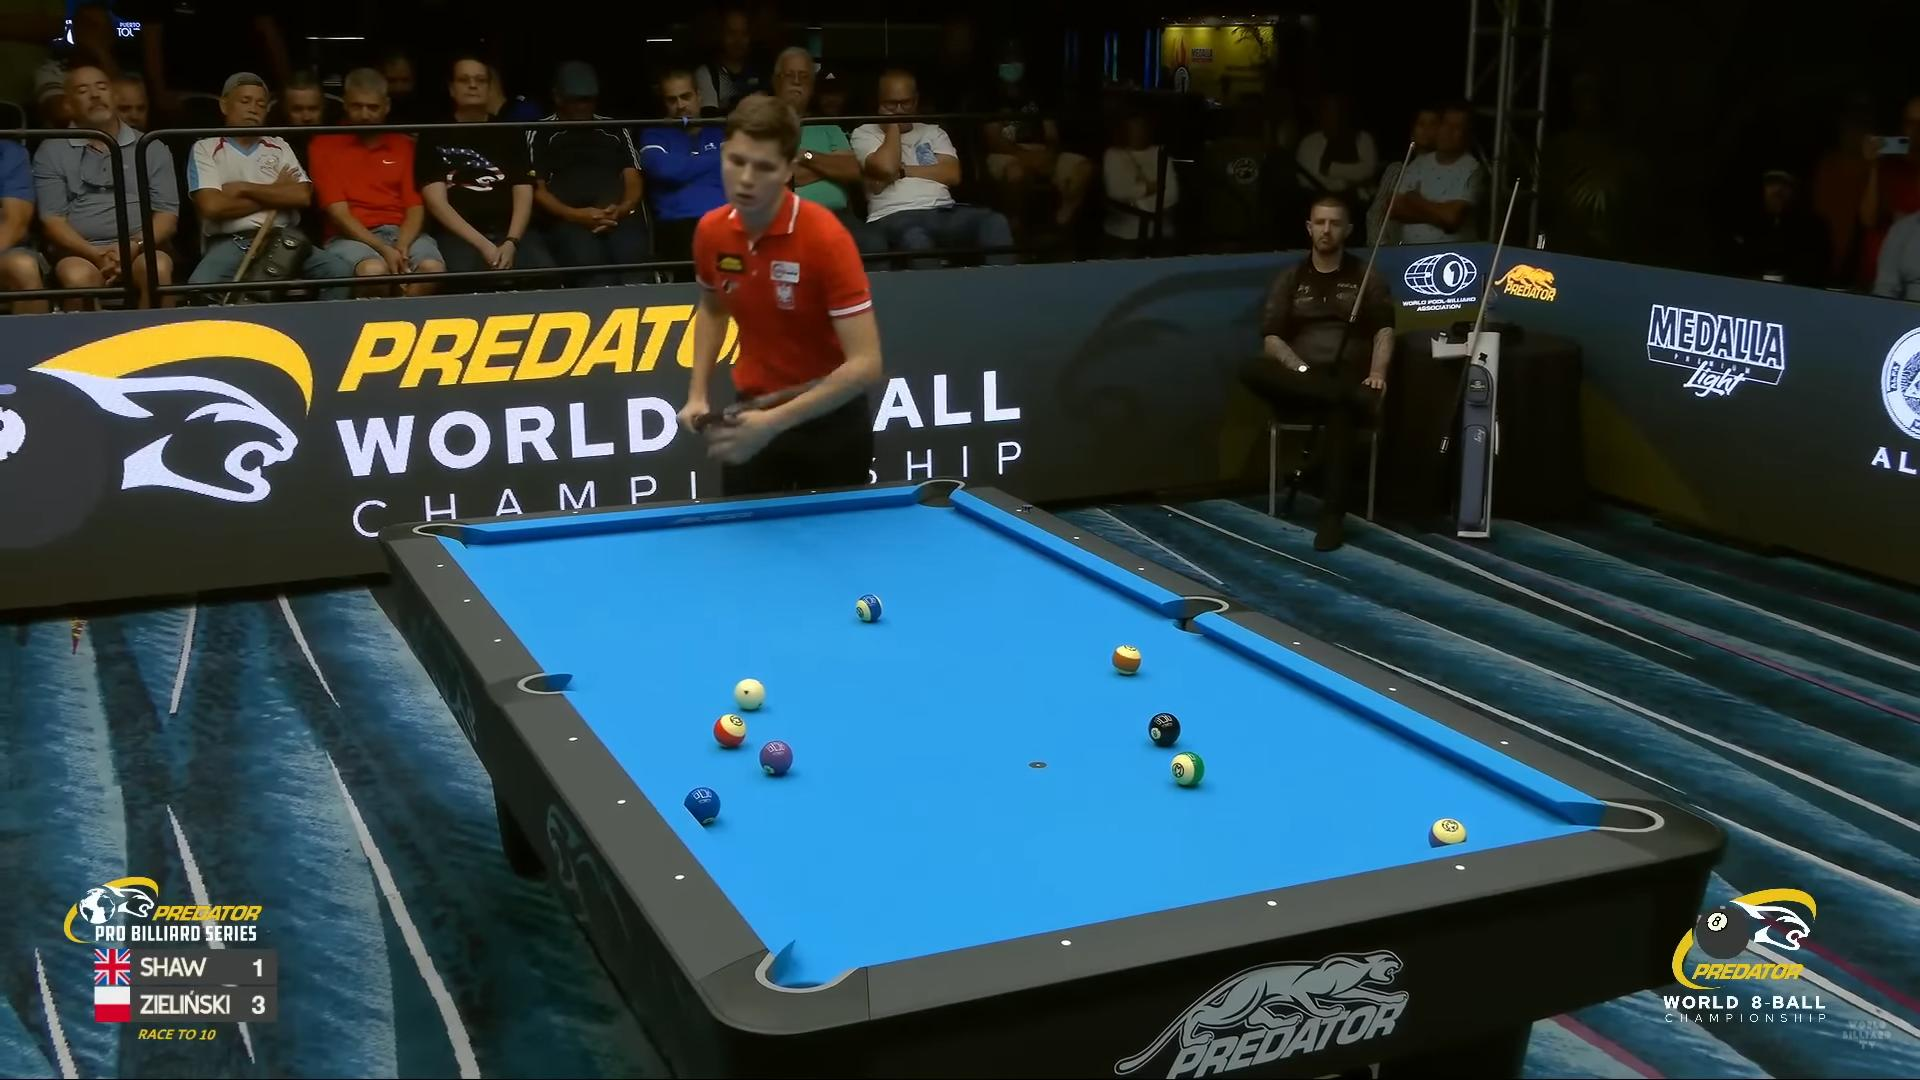Black: (1147, 713, 1180, 746)
Cue: (735, 678, 766, 709)
Dot: (673, 870, 687, 885), (491, 633, 505, 647), (568, 505, 583, 520), (807, 484, 822, 498), (1134, 562, 1149, 576), (615, 794, 628, 808), (566, 732, 579, 746), (460, 593, 473, 608), (433, 559, 447, 572), (691, 495, 704, 509), (1011, 504, 1026, 517), (1069, 531, 1084, 545), (1386, 683, 1400, 696), (1265, 897, 1279, 910), (1290, 637, 1303, 650), (1498, 736, 1511, 749), (1453, 861, 1466, 874), (1059, 936, 1072, 949)
Solid: (684, 786, 721, 824), (760, 741, 794, 775)
Striped: (1171, 752, 1205, 786), (713, 713, 746, 748), (1429, 819, 1468, 848), (1112, 645, 1141, 675), (856, 593, 882, 622)
